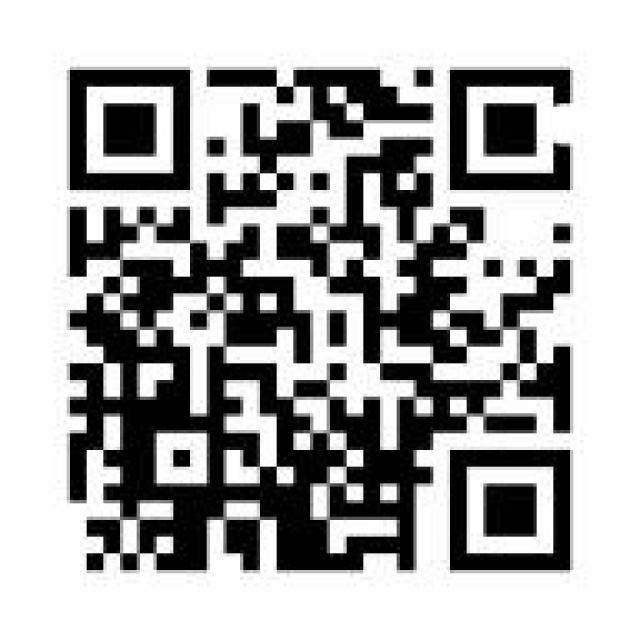QR_CODE: (42, 53, 593, 590)
